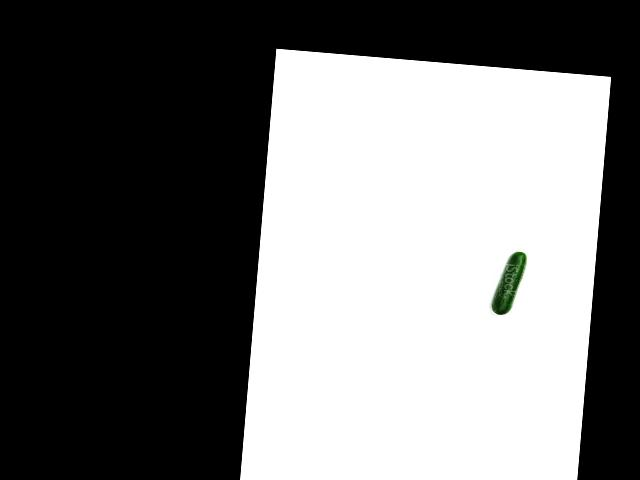cucumber: (491, 249, 526, 317)
